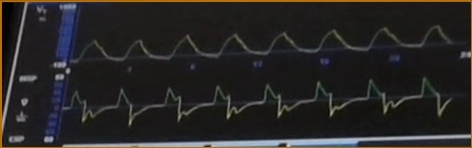Premature_cycling Flow: (66, 74, 457, 129)
Premature_cycling Volume: (75, 15, 458, 65)
